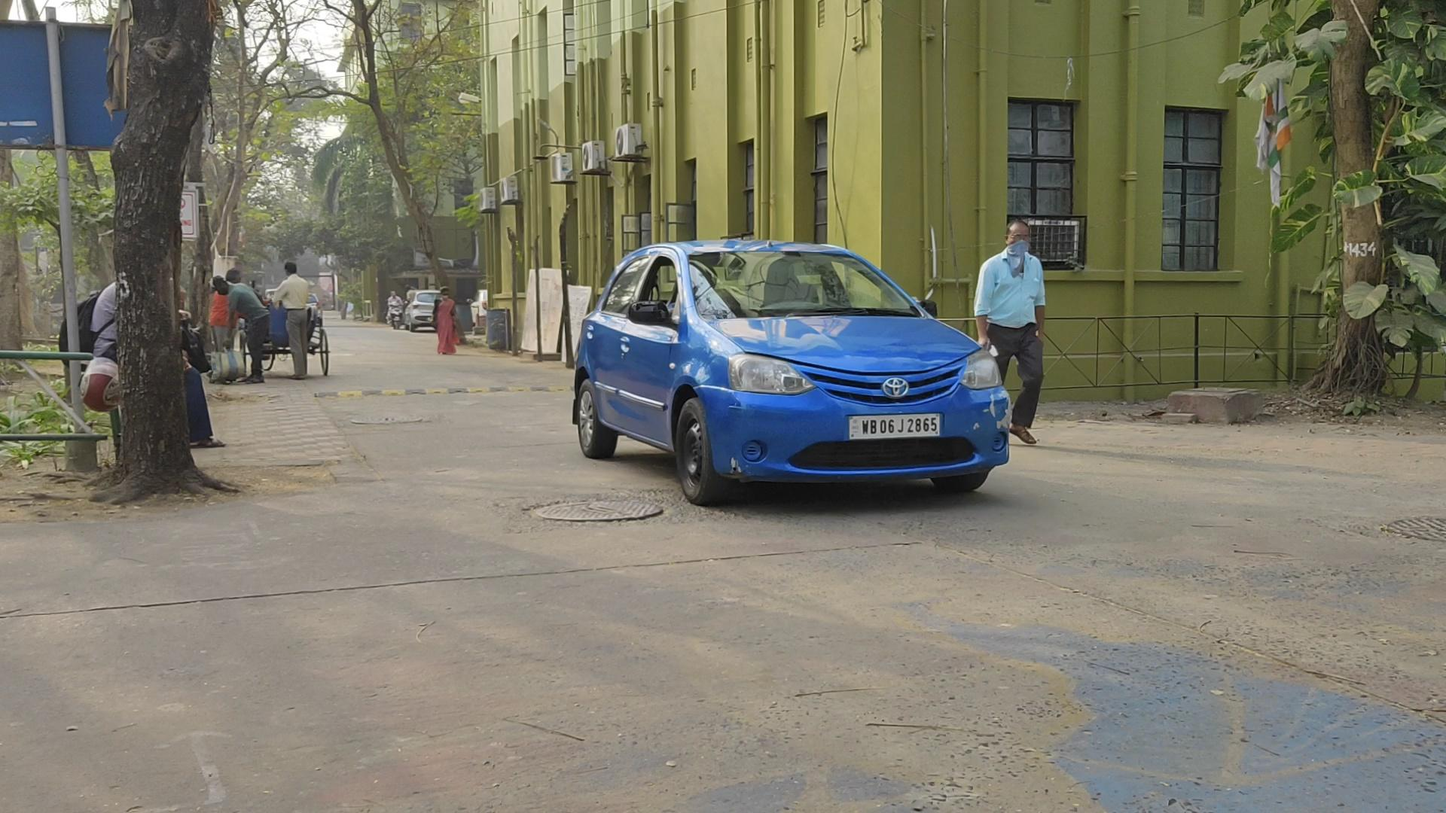bike: (386, 290, 406, 333)
car: (571, 241, 1011, 507), (403, 290, 448, 332)
